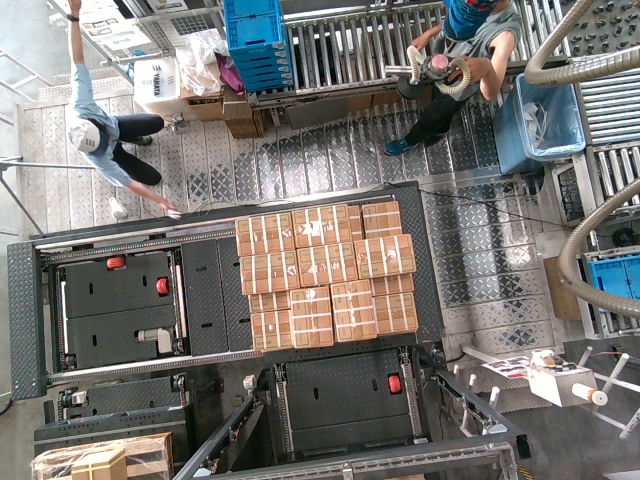box: (289, 285, 332, 349), (334, 278, 377, 342), (235, 212, 293, 252), (290, 205, 348, 245), (240, 252, 298, 292), (297, 243, 355, 283), (354, 235, 412, 275)
